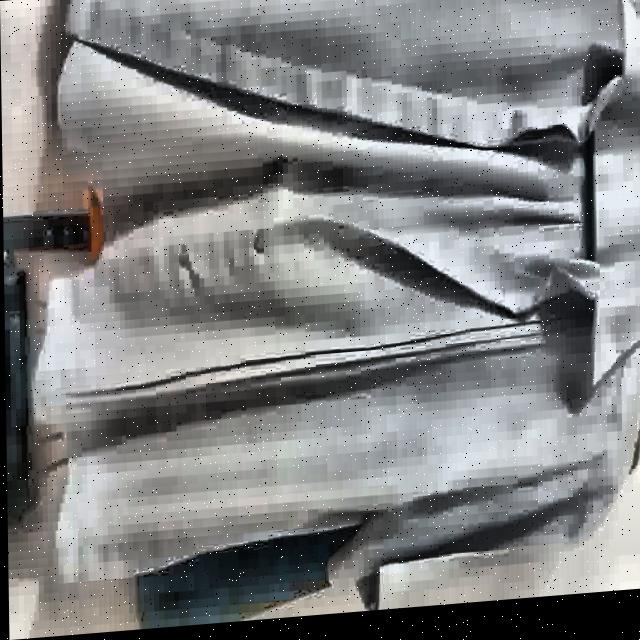clothes: (32, 0, 640, 627)
